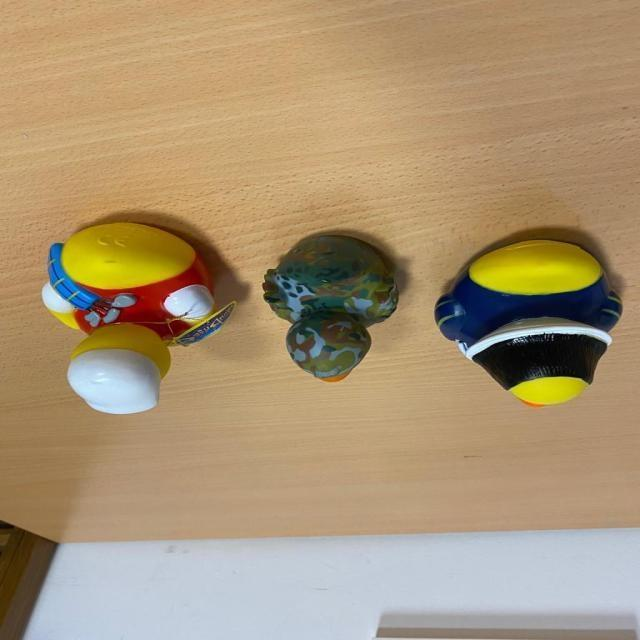rubber-duck: (41, 222, 232, 412), (434, 239, 619, 403), (262, 234, 396, 380)
